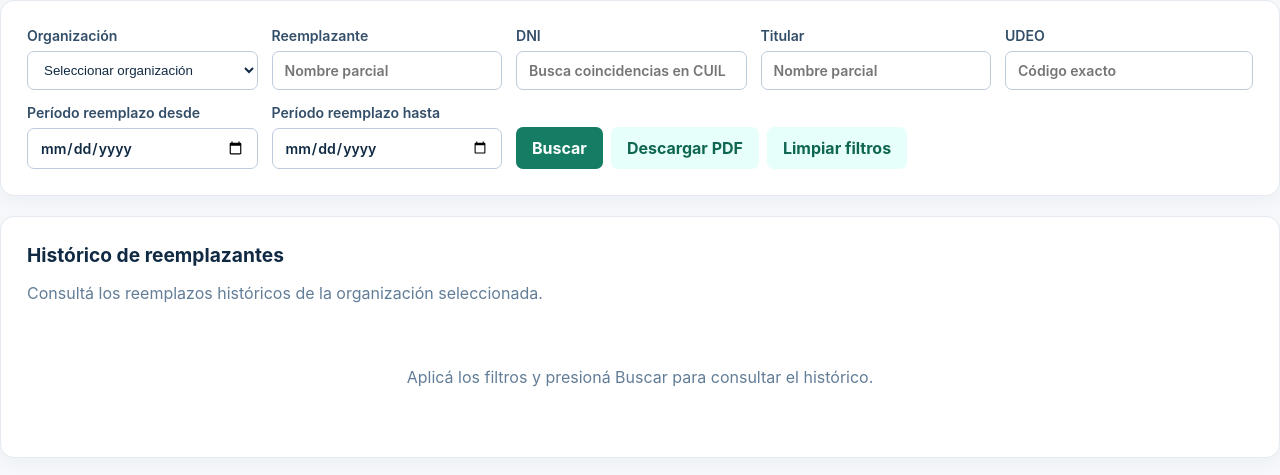
it: History › muestra "Sin organización" cuando no hay hospital ni organización
Click the button "Buscar": point(559, 148) top-left (516, 127), bottom-right (603, 169)
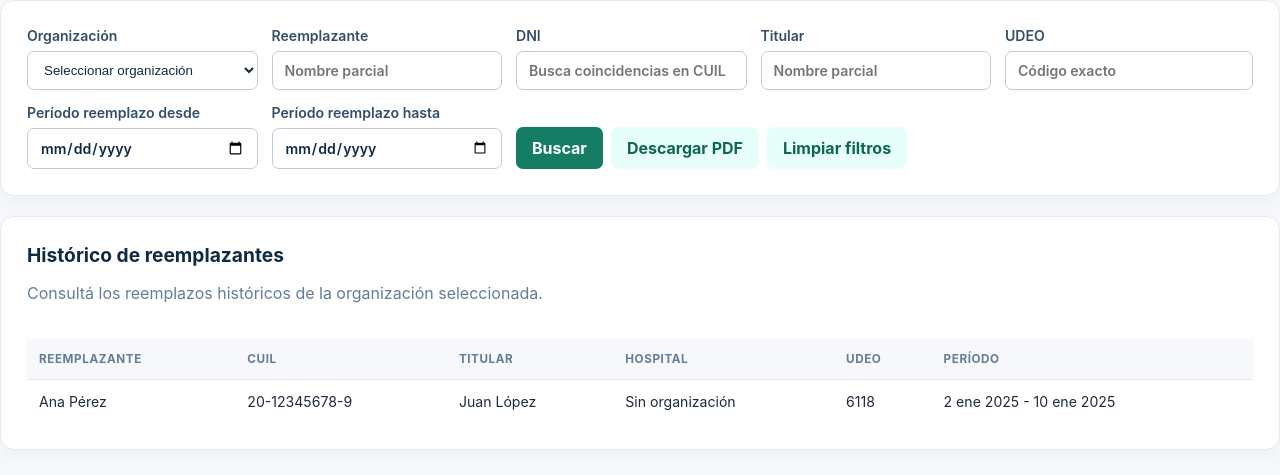
Result: the text "Sin organización" is shown at top-left (613, 380), bottom-right (834, 423)
